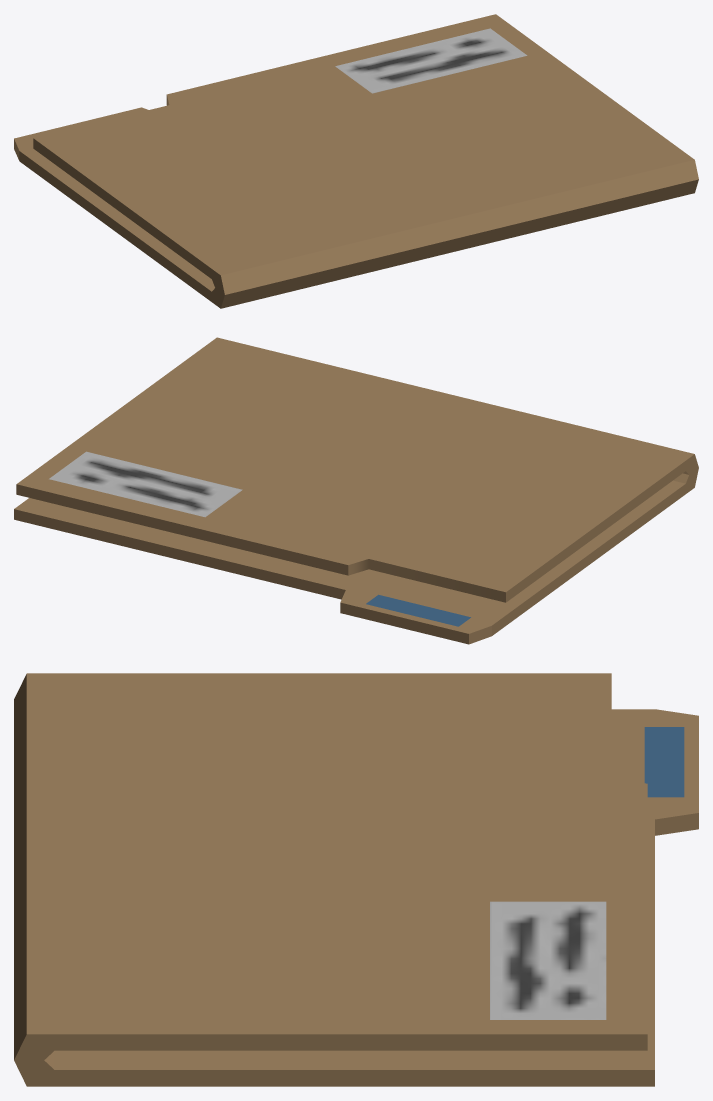
File: SM_Prop_Folder_Manila_01.fbx
3 views of the same model, one above another, from view 1: azimuth 30°, elevation 25°; view 2: azimuth 150°, elevation 25°; view 3: azimuth 270°, elevation 25° (orthographic). The views are drawn at different scales.
Parts seen in each view (by area): view 1: SM_Prop_Folder_Manila_01; view 2: SM_Prop_Folder_Manila_01; view 3: SM_Prop_Folder_Manila_01.
Part boxes in pixels (x1,y1,x2,y2): SM_Prop_Folder_Manila_01: (14,14,698,308); SM_Prop_Folder_Manila_01: (14,337,698,644); SM_Prop_Folder_Manila_01: (14,673,698,1086).
Bounding box in the file's own units: 38.23 × 2.57 × 30.66.
